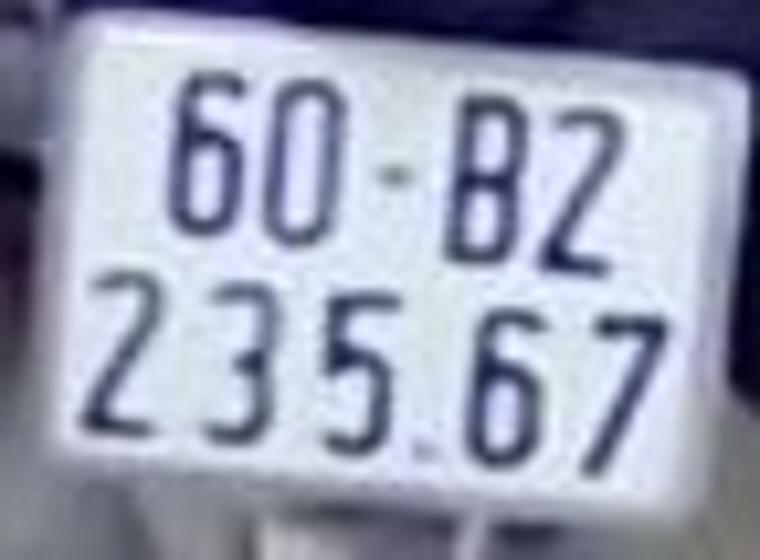-: (361, 163, 414, 183)
0: (269, 79, 343, 242)
2: (83, 267, 155, 440)
3: (205, 274, 273, 447)
5: (316, 287, 398, 453), (400, 439, 448, 465)
6: (162, 60, 238, 242), (474, 307, 537, 476)
7: (577, 315, 659, 476)
B: (450, 96, 517, 267), (547, 110, 613, 278)
